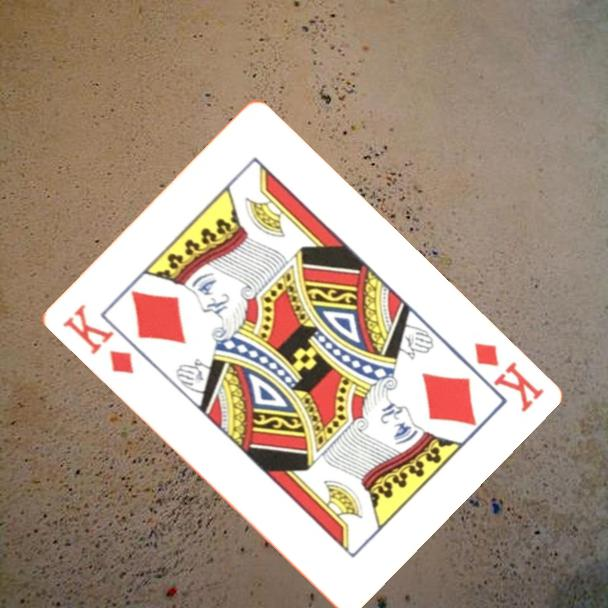d13: (58, 300, 136, 377), (469, 338, 547, 415)
